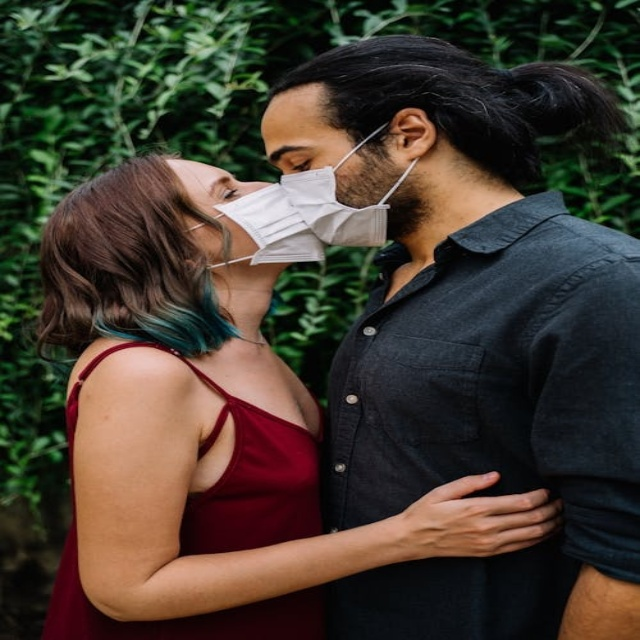Mascara: (208, 127, 401, 266)
Sin_gafas: (260, 129, 333, 178), (193, 166, 252, 207)
Sin_guantes: (385, 471, 563, 561)
